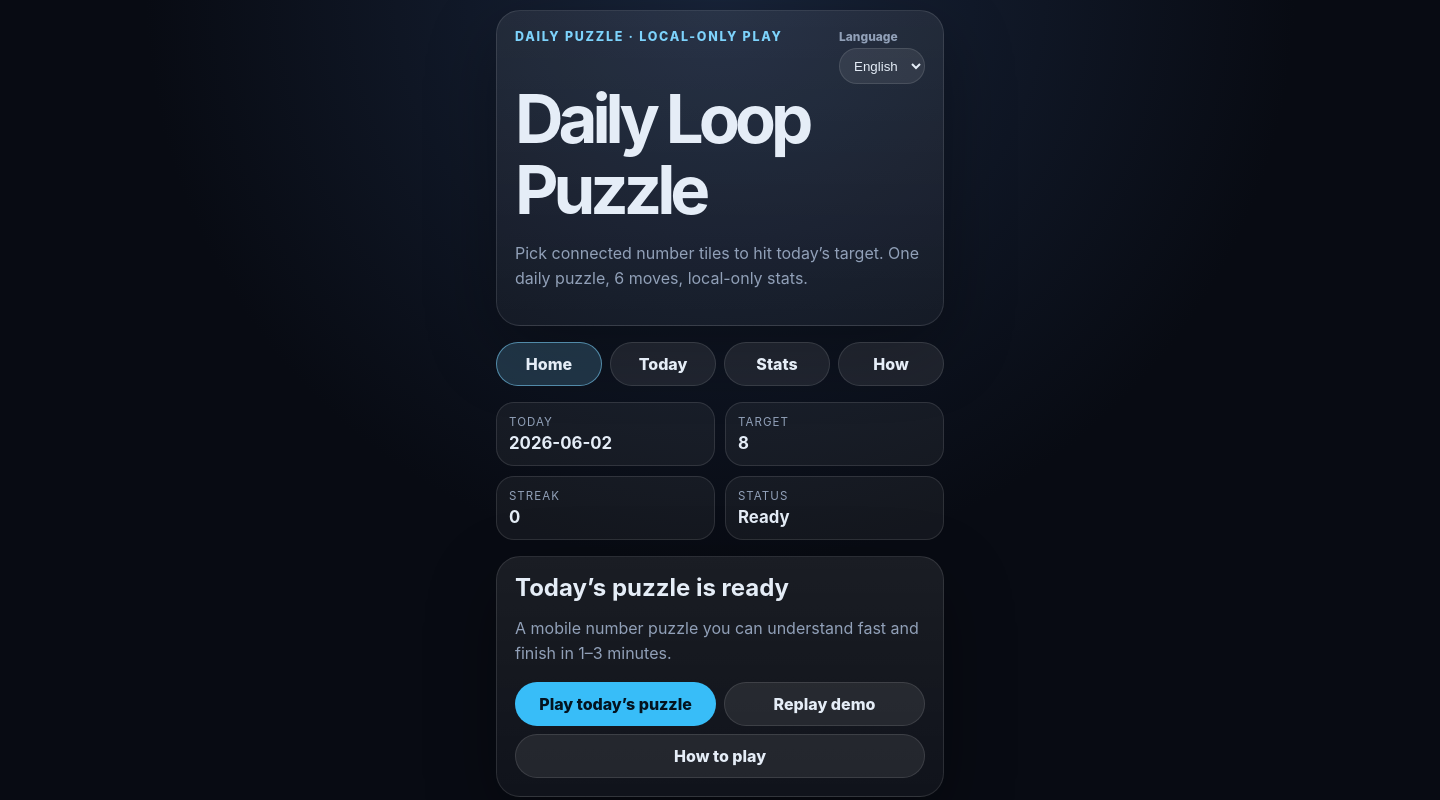
Scenario: App onboarding and language behavior › replays the demo from an in-progress puzzle without resetting moves or onboarding metadata
Click the button "Today": (663, 364) [610,342,716,386]
(page scrolled)
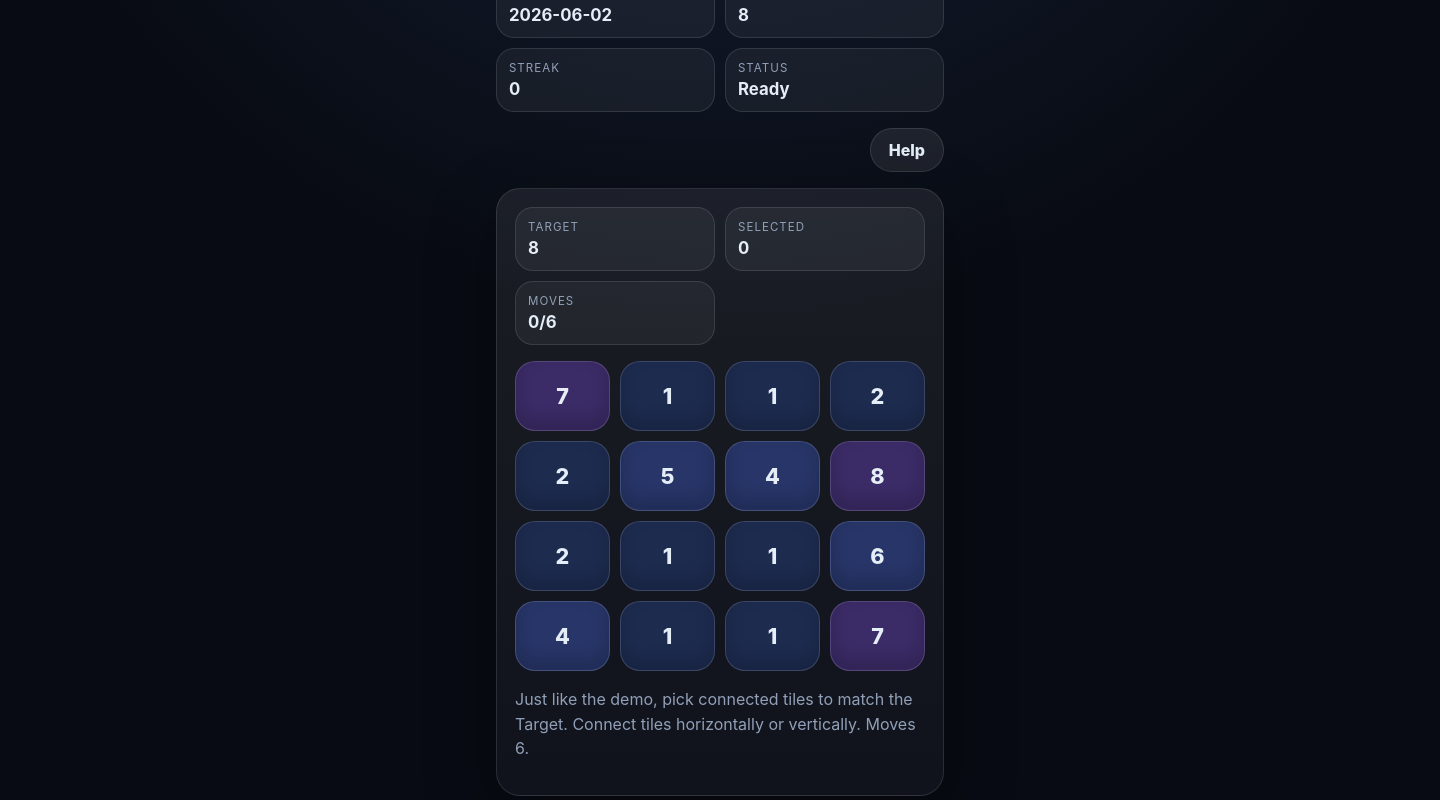
Click the 1st cell "7": (562, 396) [515,361,610,431]
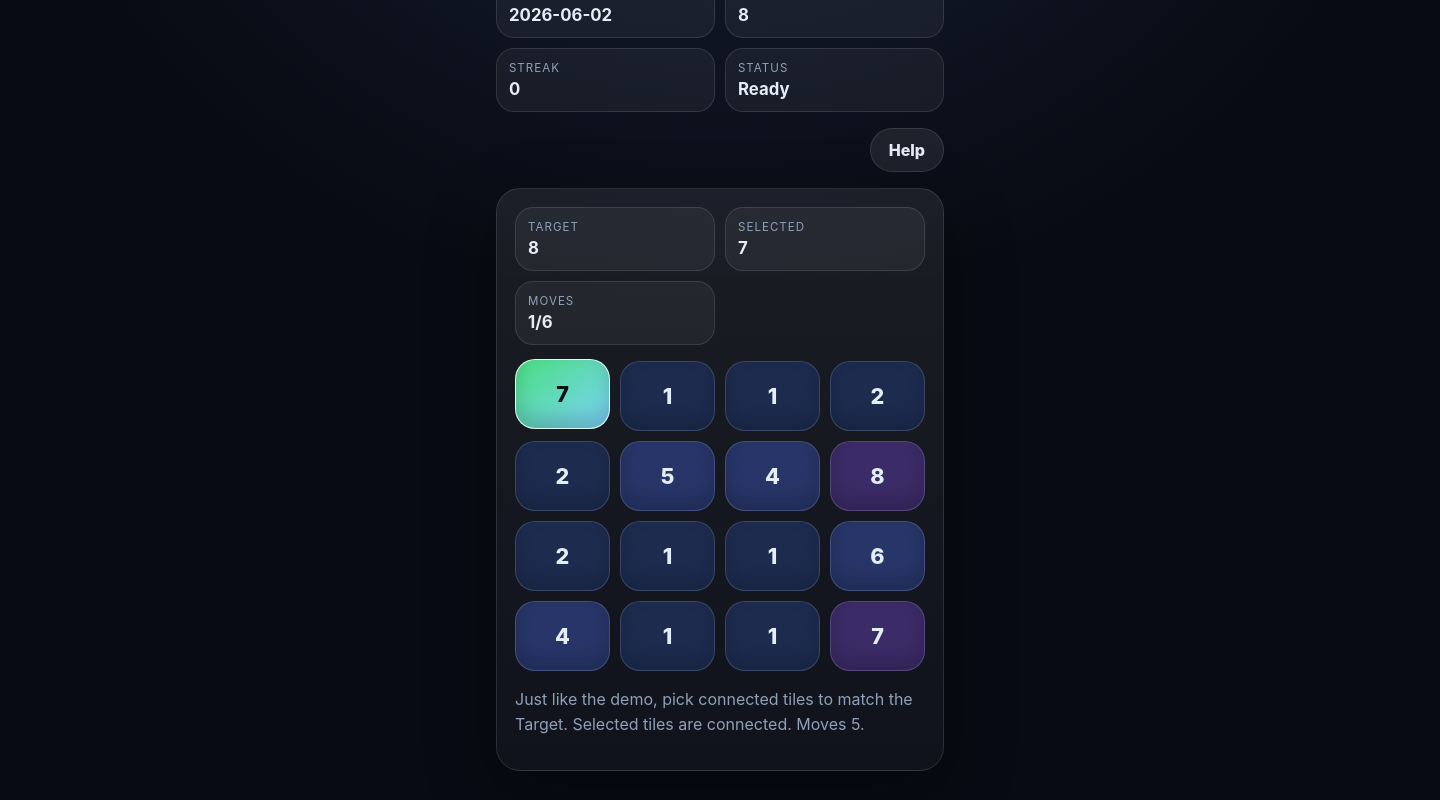
Expected: the text "1/6" is shown, [528,312,553,332]
Click the button "Help": (907, 150) [870,128,944,172]
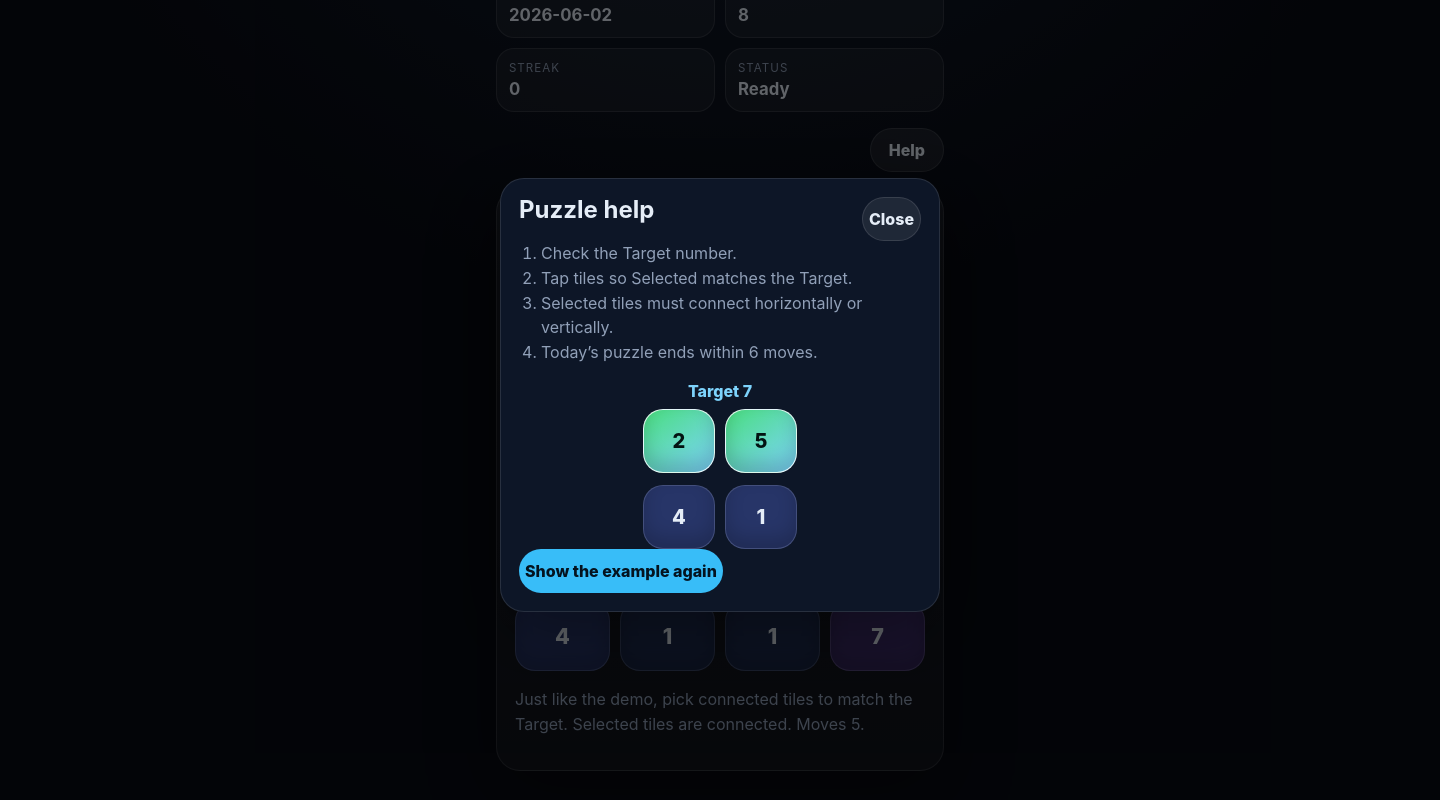
Click the button "Show the example again": (621, 571) [519,549,723,593]
(page scrolled)
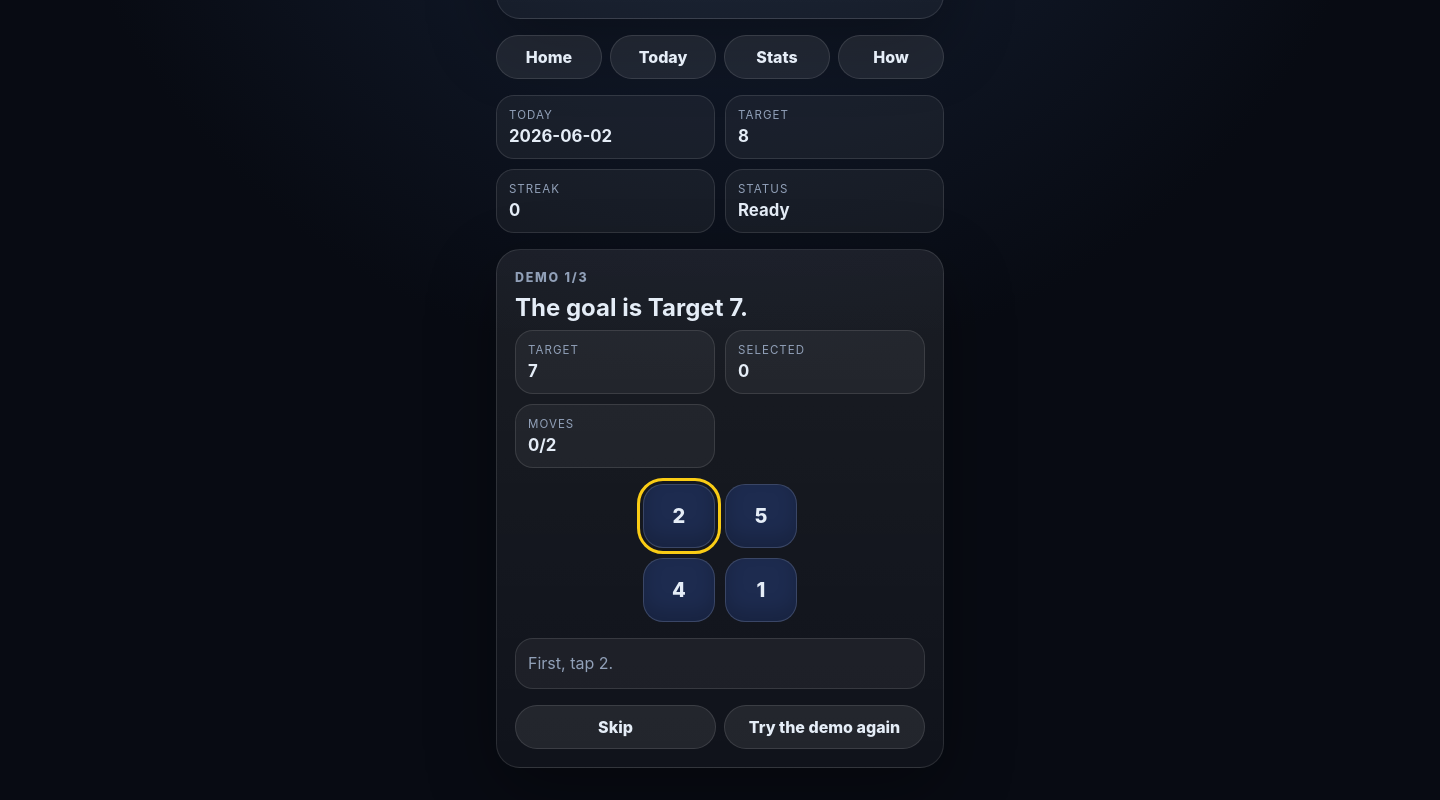
Click the button "Skip": (616, 727) [515,705,716,749]
(page scrolled)
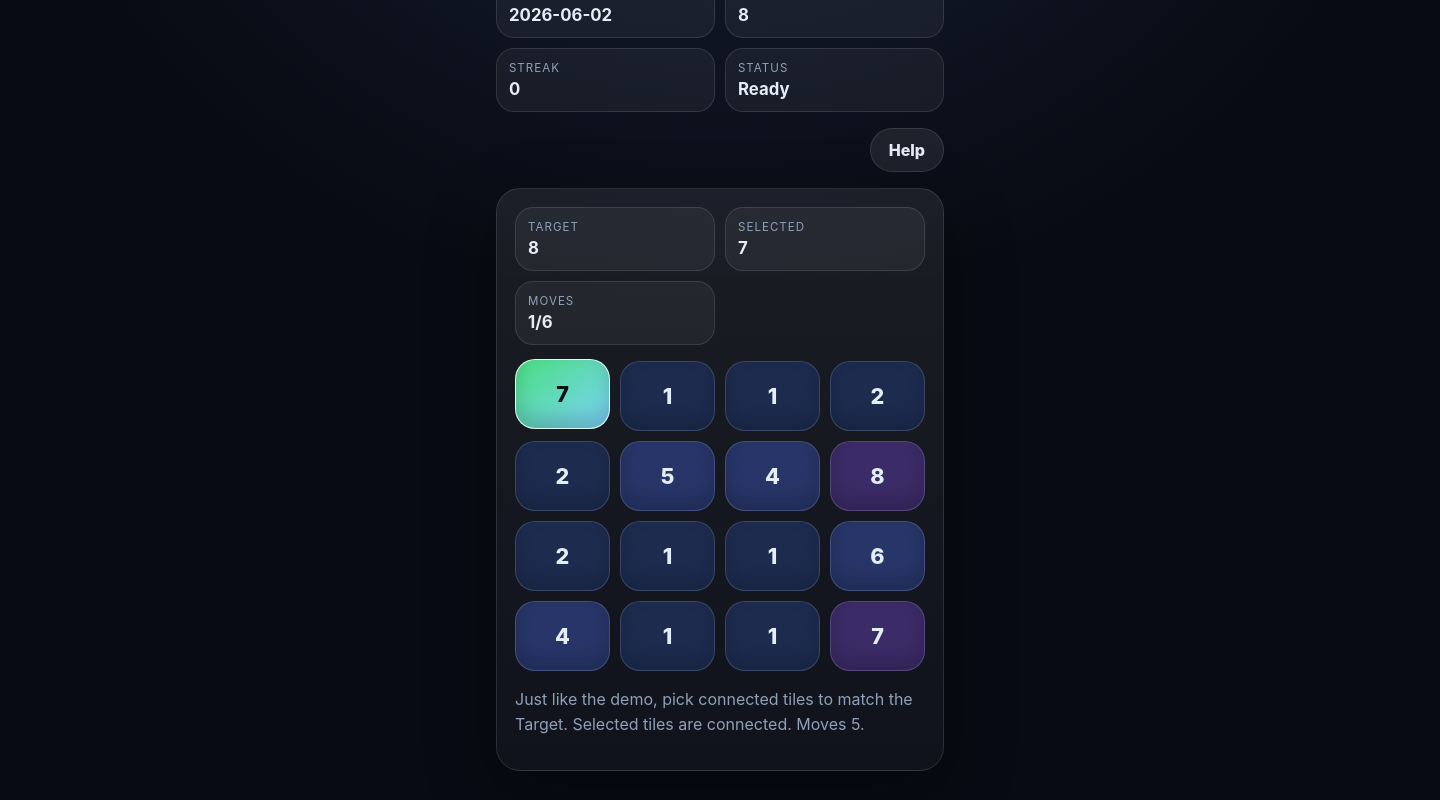
Expected: the text "1/6" is shown, [528,312,553,332]
